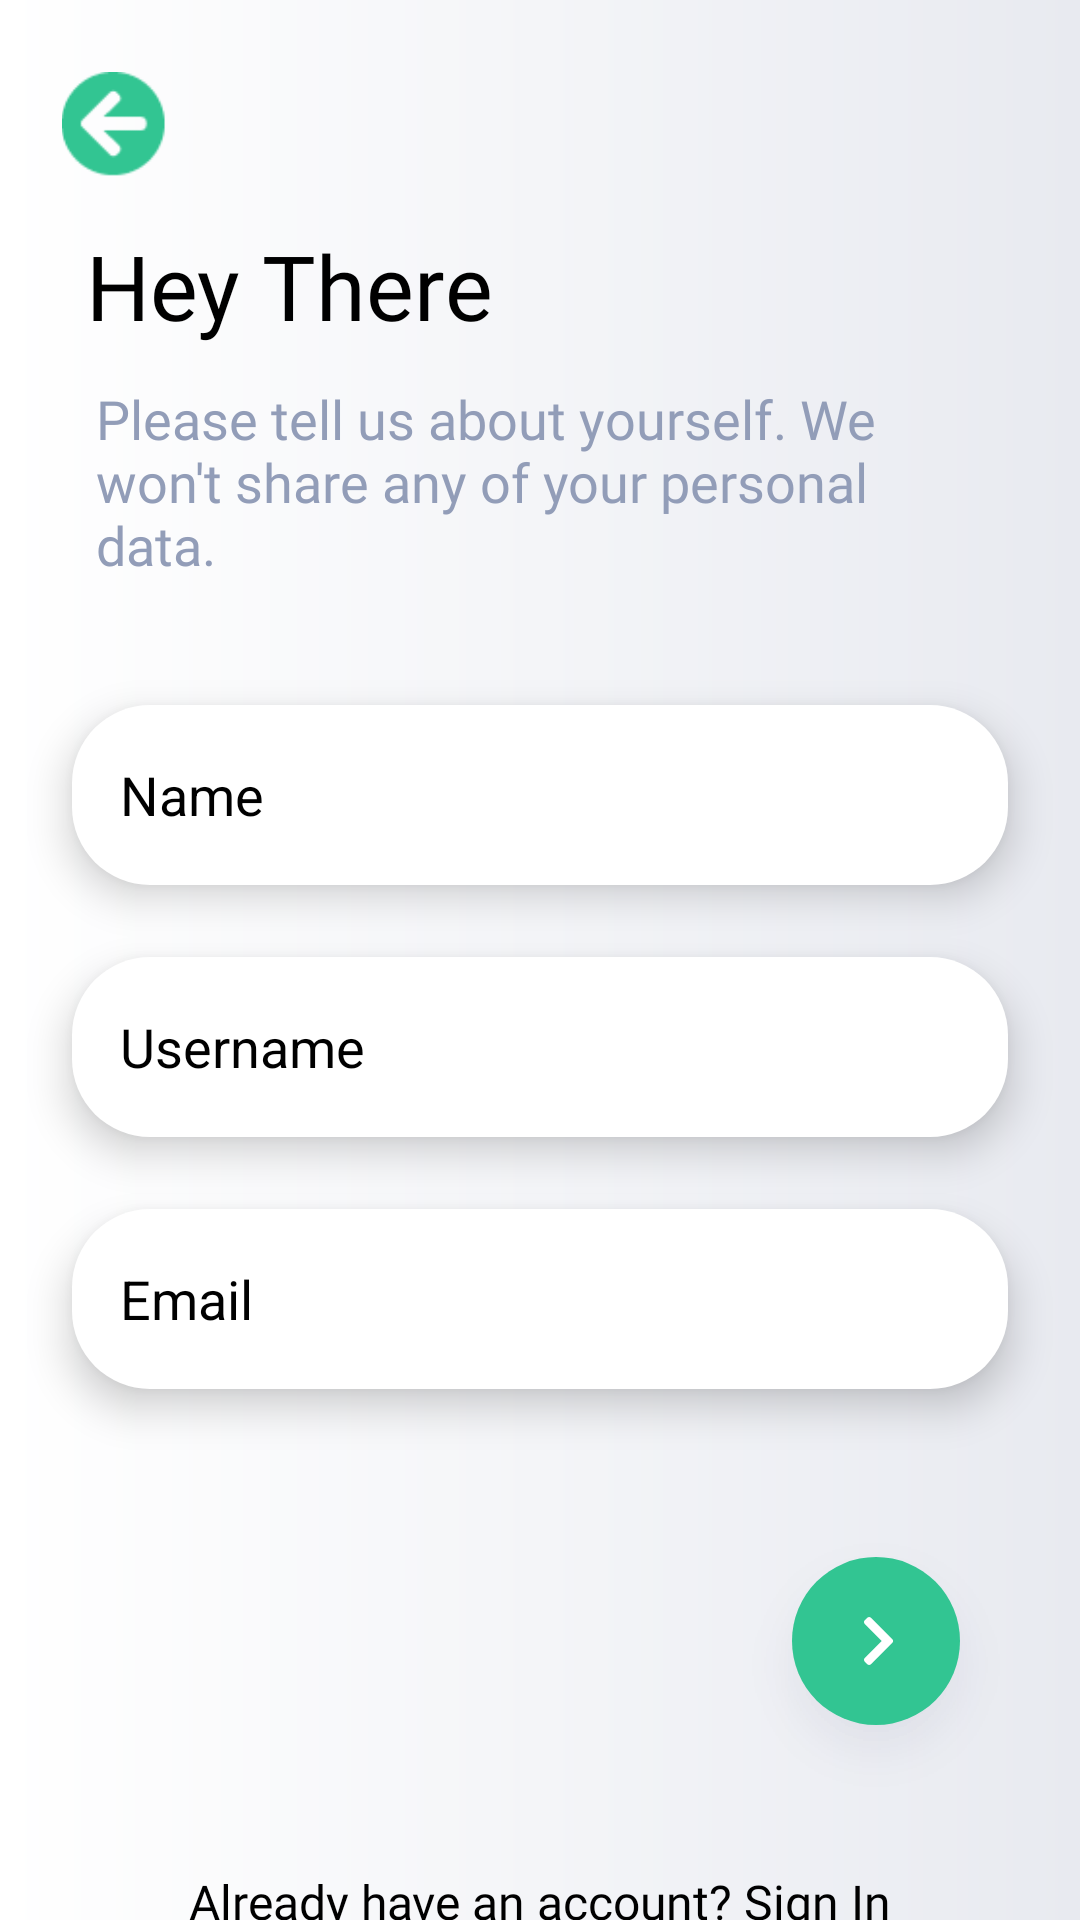

Icon click points for this 1080 × 1920 phone screenshot, format [x,y]:
signupabackbutton: [113,124]
signupanextbutton: [876,1641]
